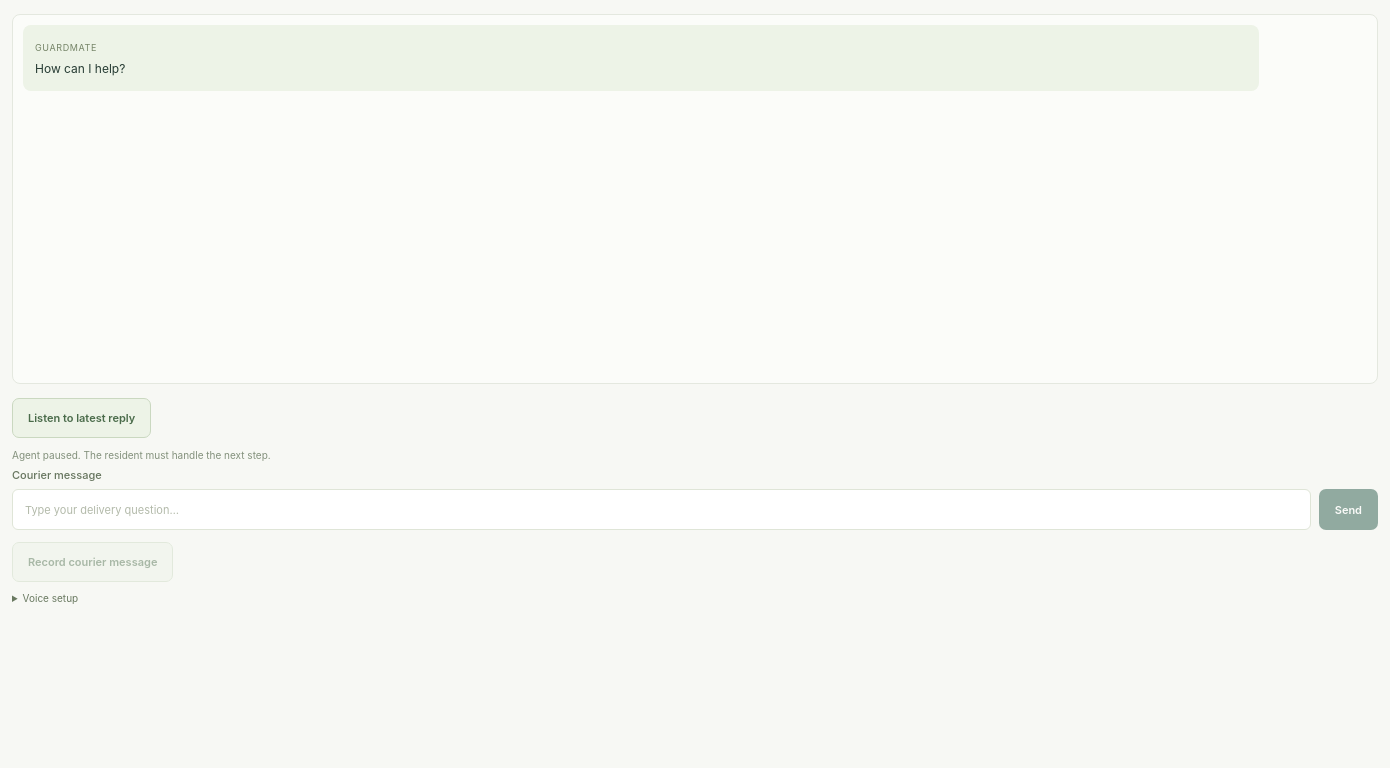
Test: recording and reply audio coordination › allows explicit final assistant reply audio when ended, but keeps microphone disabled
Expected: the button "Record courier message" is disabled, [12,542,173,582]
Click the button "Listen to latest reply": (82, 418) [12,398,151,438]
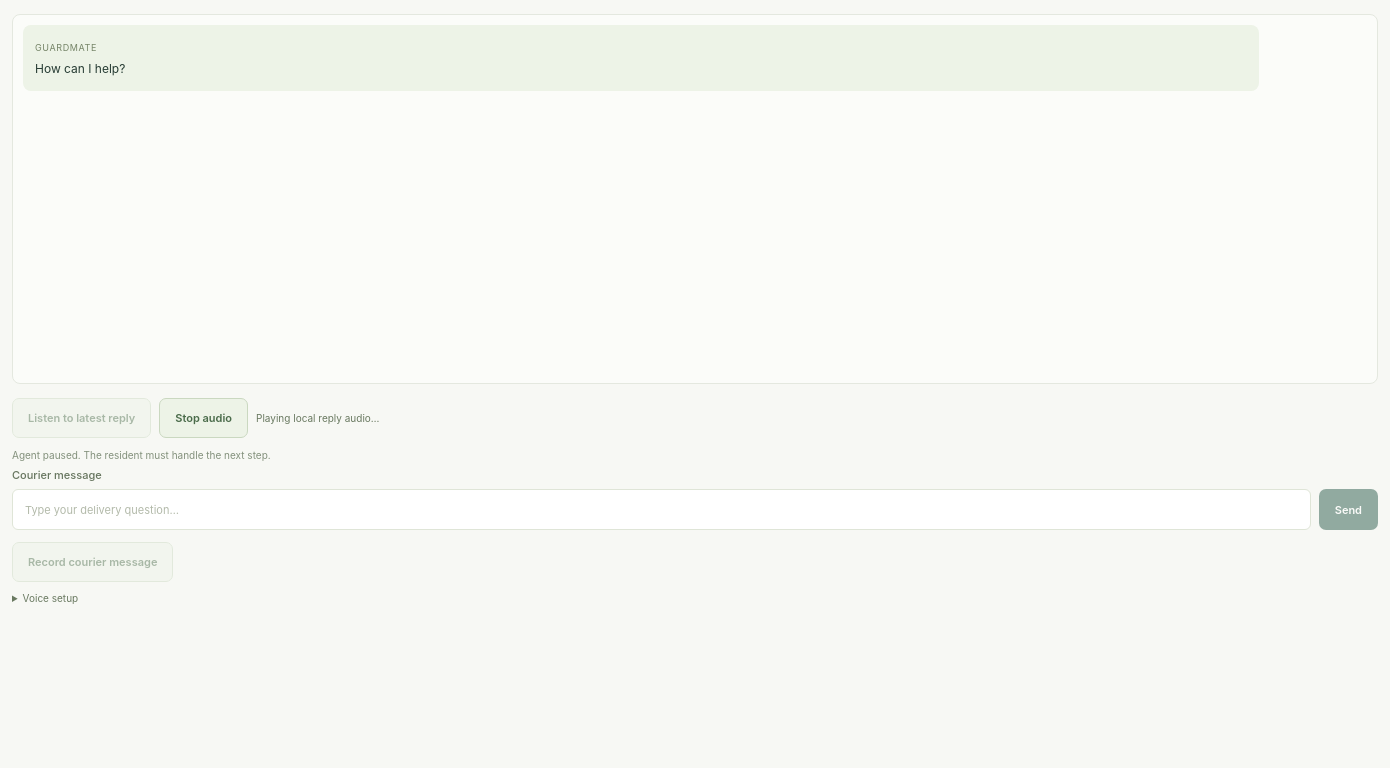
Result: the text "Playing local reply audio…" is shown at [256,410,379,426]
